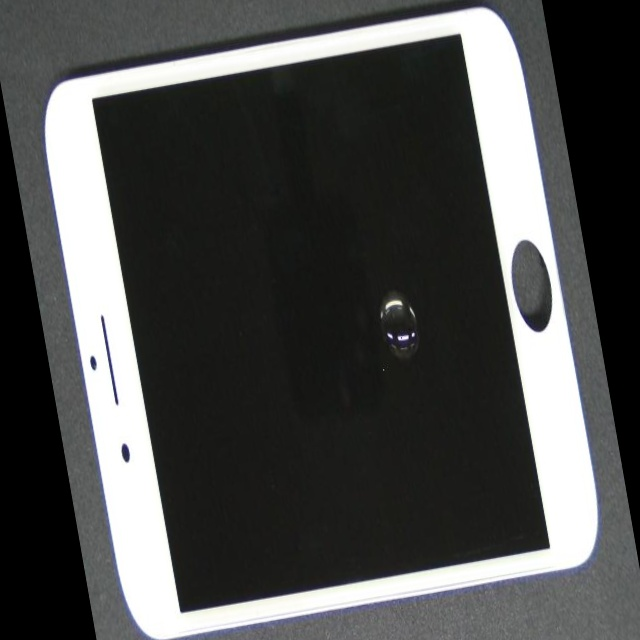oil: (196, 73, 585, 506)
